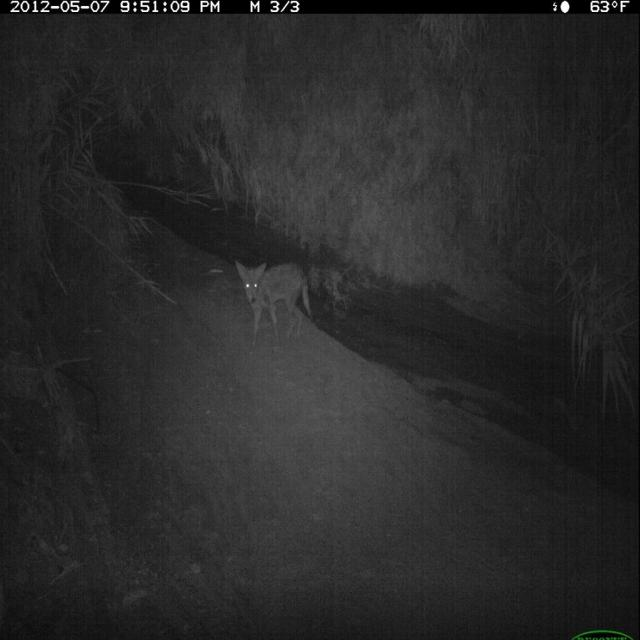coyote: (234, 254, 317, 353)
